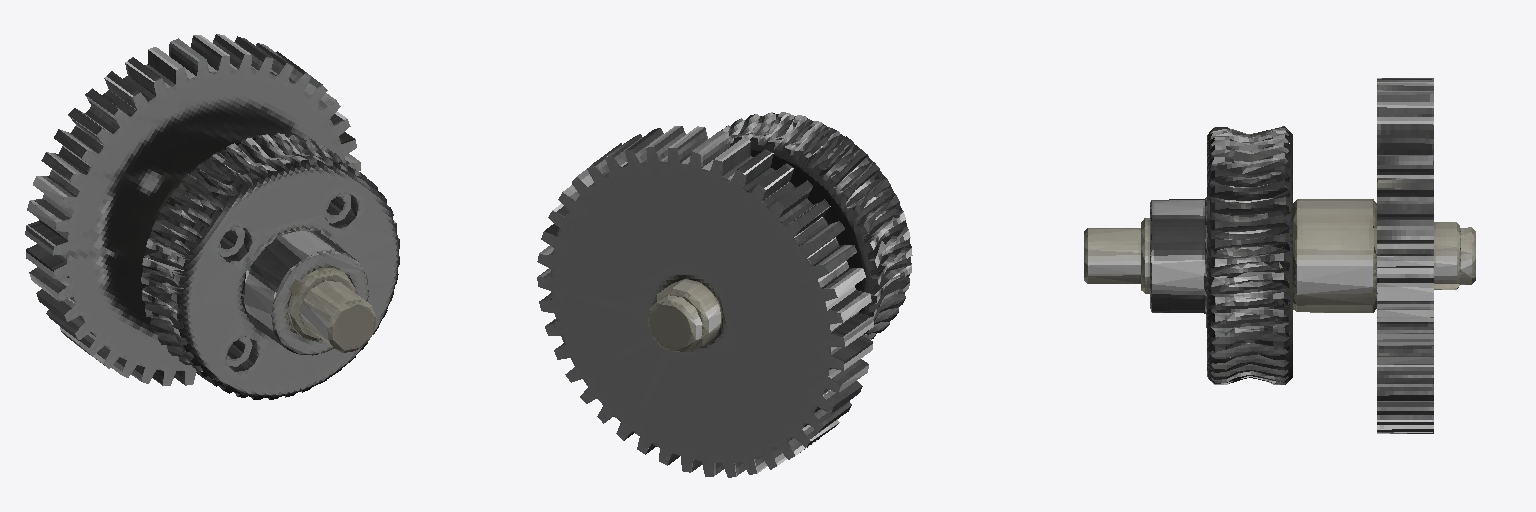
3 renders of one model, left to right at view 1: azimuth 30°, elevation 25°; view 2: azimuth 150°, elevation 25°; view 3: azimuth 270°, elevation 25°, orthographic.
Parts seen in each view (by area): view 1: Piñon.018_Mesh.080; view 2: Piñon.018_Mesh.080; view 3: Piñon.018_Mesh.080.
Part boxes in pixels (bbox=[...]): Piñon.018_Mesh.080: bbox=[25, 34, 399, 399]; Piñon.018_Mesh.080: bbox=[537, 112, 912, 477]; Piñon.018_Mesh.080: bbox=[1084, 78, 1475, 433].
Size of the model in its own units: 0.1227 by 0.1225 by 0.1346.
Materials: 2 (1 with a texture image).